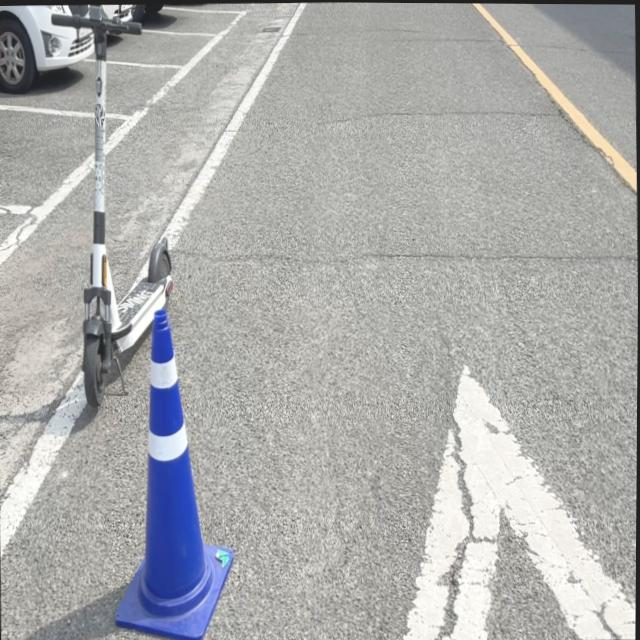b_rub: (115, 308, 233, 640)
